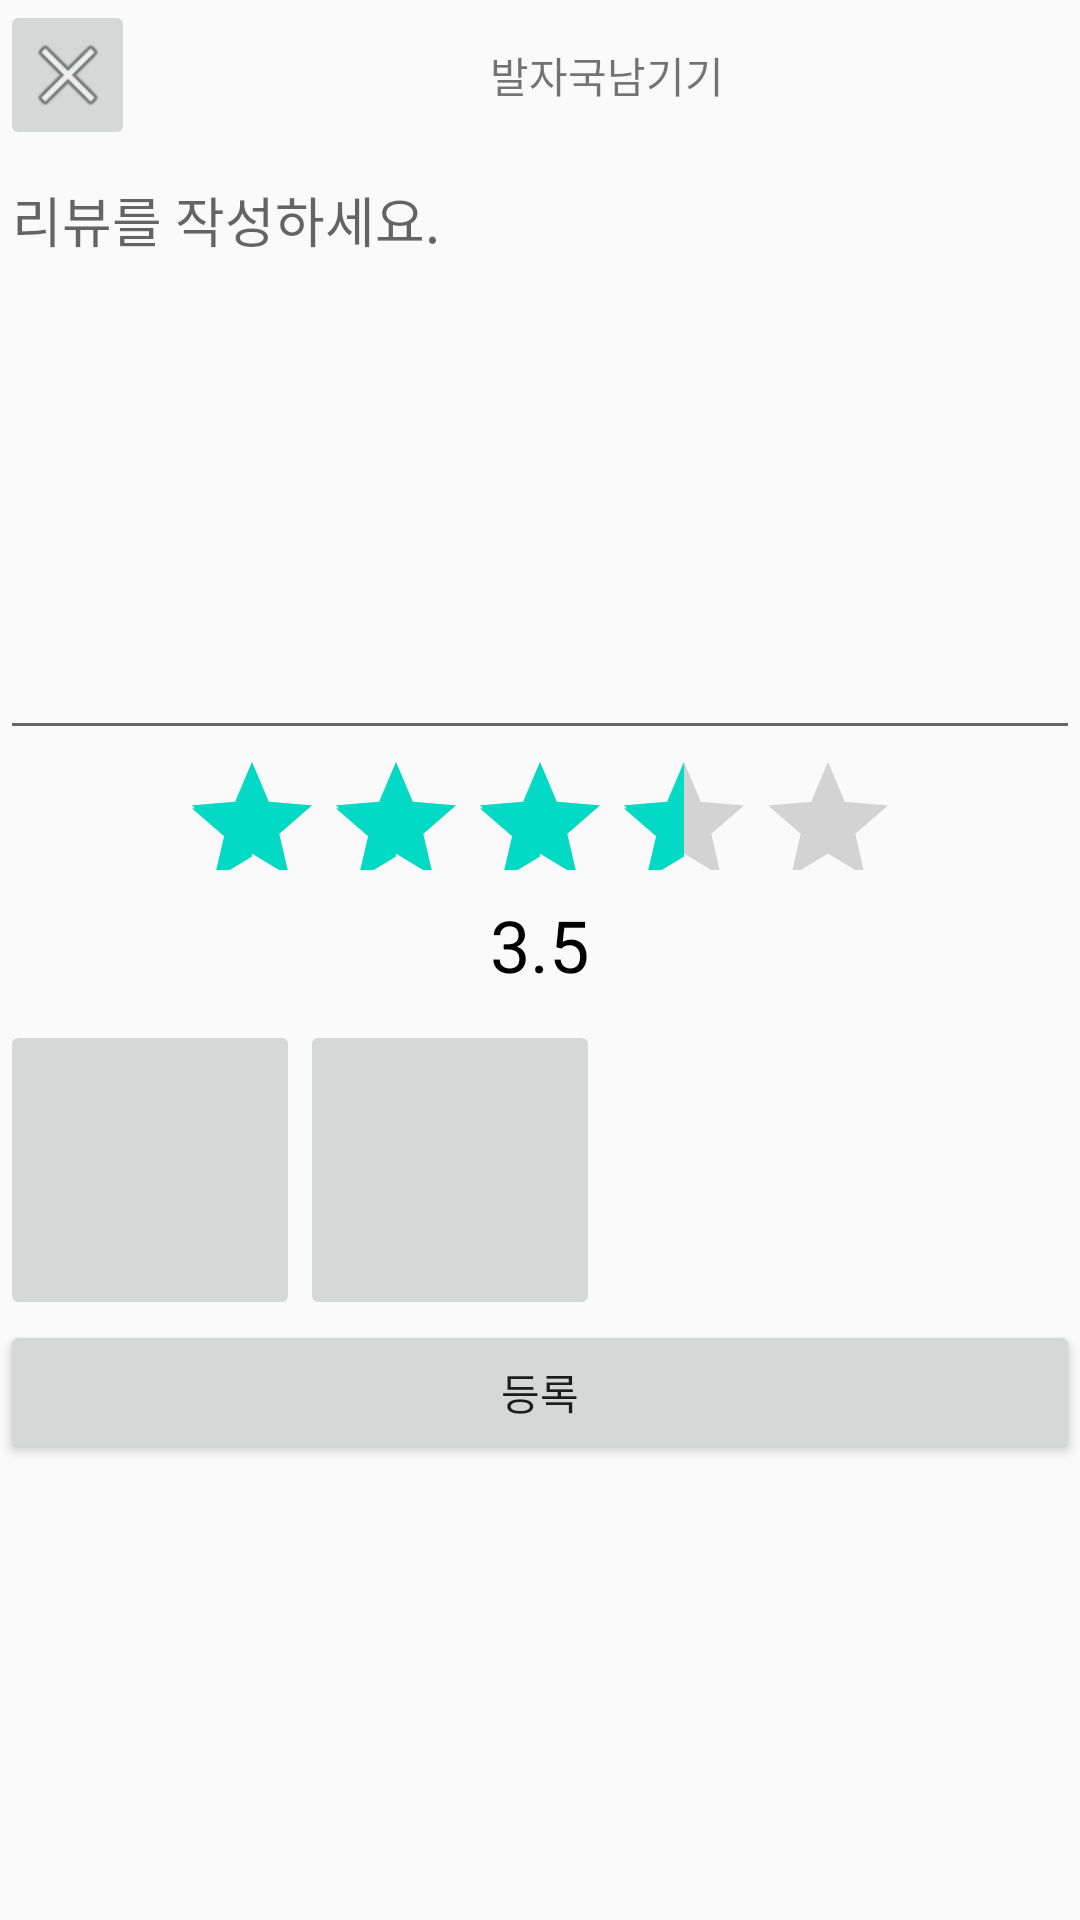

Locate icon controls on the screen. Image size 1080x1920, boxes as (x1, y1, x2, y2).
close clear cancel: (12, 18, 123, 132)
